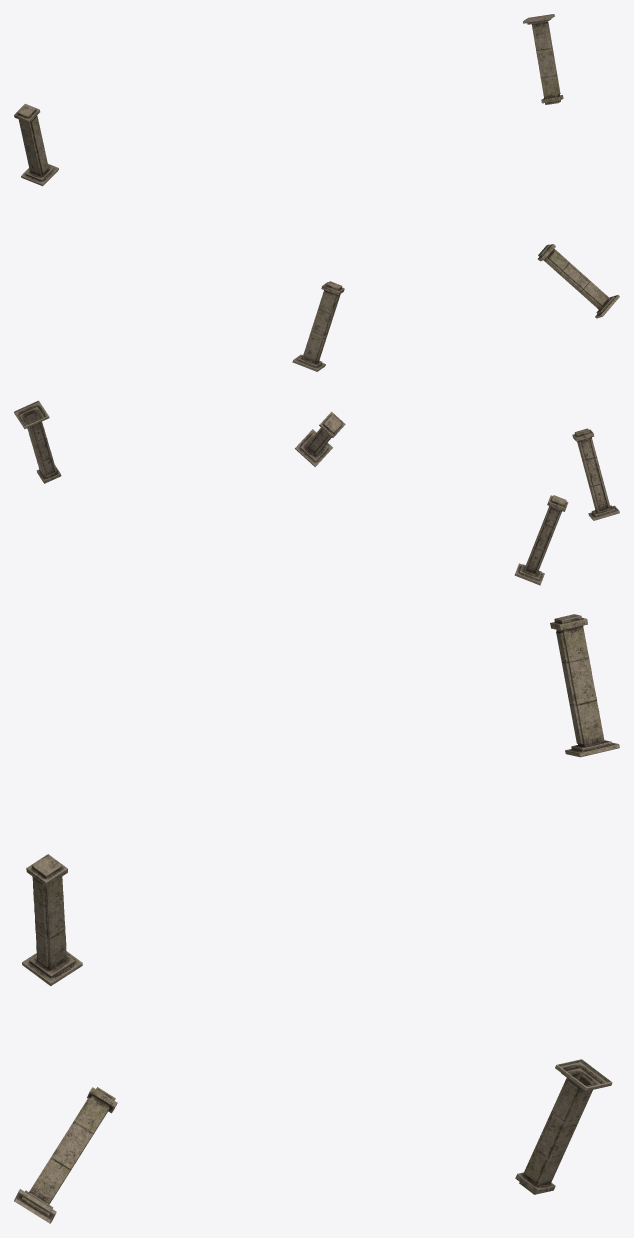
Rendered from Dream3_Stone_Pillers.glb.
3 views of the same model, one above another, from view 1: azimuth 30°, elevation 25°; view 2: azimuth 150°, elevation 25°; view 3: azimuth 270°, elevation 25° (orthographic). The views are drawn at different scales.
Visible parts, largest first — view 1: Pillar_low, Pillar_low_Material_0.003, Pillar_low_Material_0.001, Pillar_low_Material_0.002; view 2: Pillar_low_Material_0.001, Pillar_low_Material_0.003, Pillar_low, Pillar_low_Material_0.002; view 3: Pillar_low_Material_0.001, Pillar_low, Pillar_low_Material_0.003, Pillar_low_Material_0.002.
Part boxes in pixels (box(x1,y1,x2,y2)): Pillar_low: box(14, 103, 58, 186); Pillar_low_Material_0.003: box(292, 281, 344, 371); Pillar_low_Material_0.001: box(523, 14, 563, 104); Pillar_low_Material_0.002: box(538, 244, 619, 318); Pillar_low_Material_0.001: box(14, 400, 61, 483); Pillar_low_Material_0.003: box(572, 428, 619, 520); Pillar_low: box(514, 495, 568, 585); Pillar_low_Material_0.002: box(295, 411, 345, 466); Pillar_low_Material_0.001: box(515, 1059, 612, 1194); Pillar_low: box(550, 614, 619, 757); Pillar_low_Material_0.003: box(22, 854, 82, 985); Pillar_low_Material_0.002: box(14, 1087, 117, 1223).
Bounding box in the file's own units: 9.51 × 3.16 × 5.83.
Materials: 1 (1 with a texture image).
